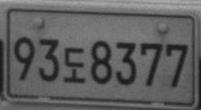3: (115, 41, 137, 86), (38, 38, 59, 82)
7: (139, 42, 163, 86), (165, 43, 189, 87)
8: (89, 39, 112, 84)
9: (13, 35, 35, 81)
도: (63, 46, 85, 83)
